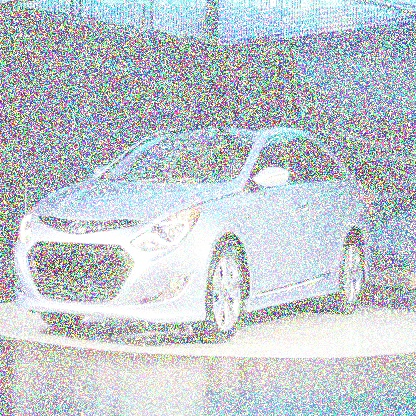Vehicle: (15, 127, 374, 347)
